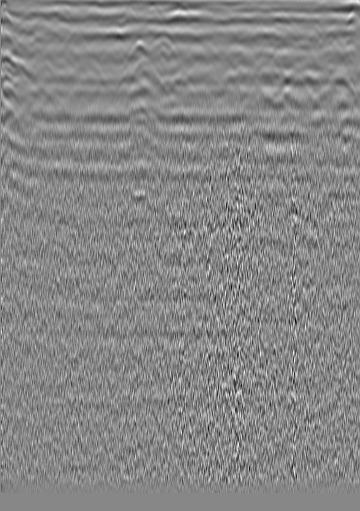가스: (116, 190, 156, 219)
상수: (305, 24, 325, 44)
오수: (34, 18, 54, 38)
우수: (150, 33, 170, 53)
